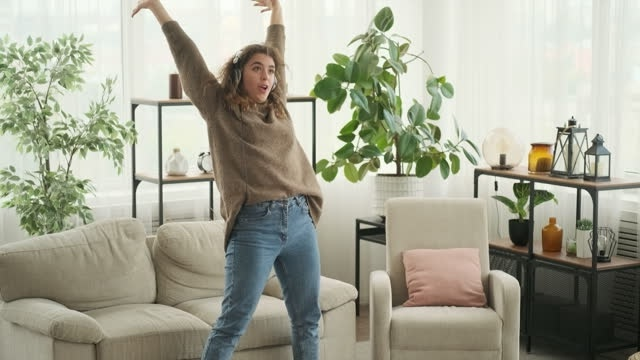not_fallen: (138, 0, 324, 357)
